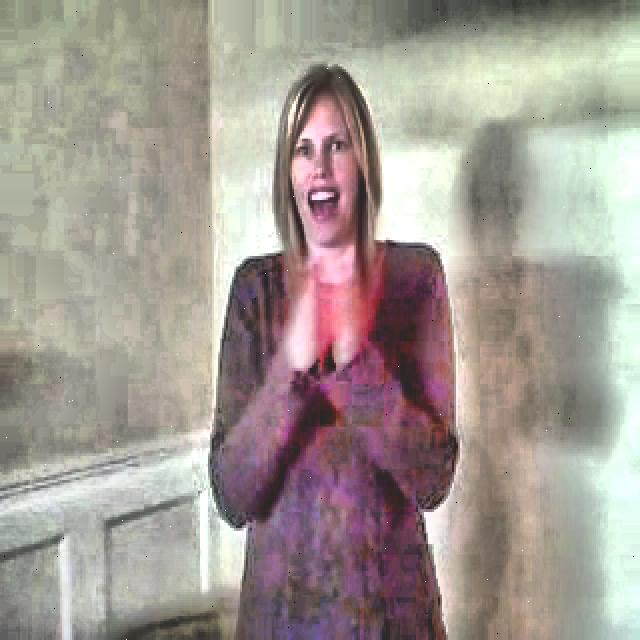F: (183, 53, 465, 627)
